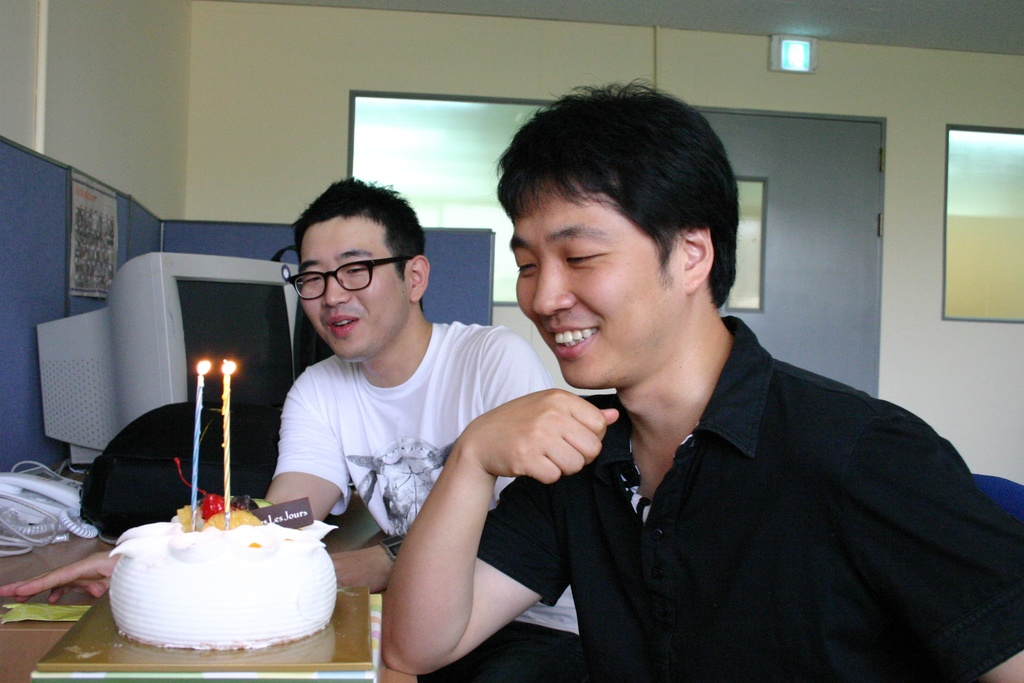cake: (105, 462, 337, 651)
